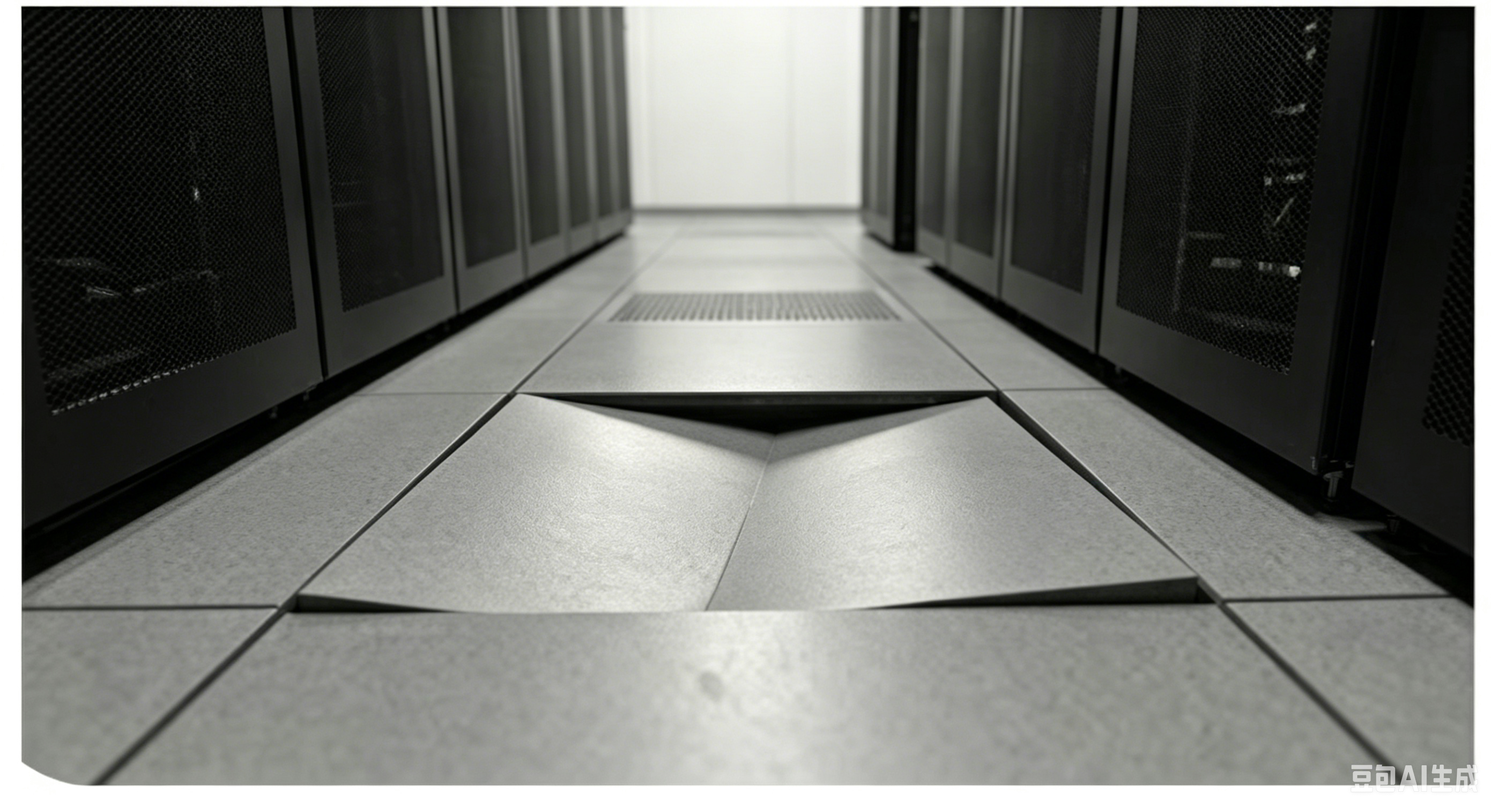floor_defect: (280, 378, 1222, 612)
